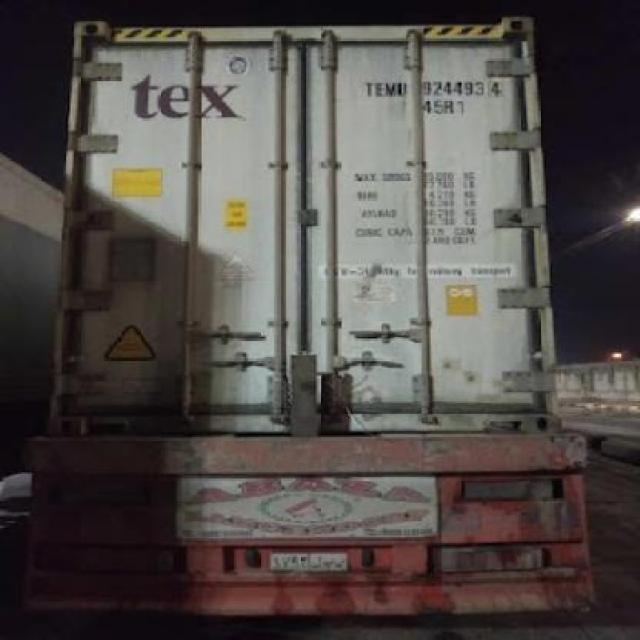ISO: (426, 99, 462, 116)
container_number: (363, 78, 500, 99)
